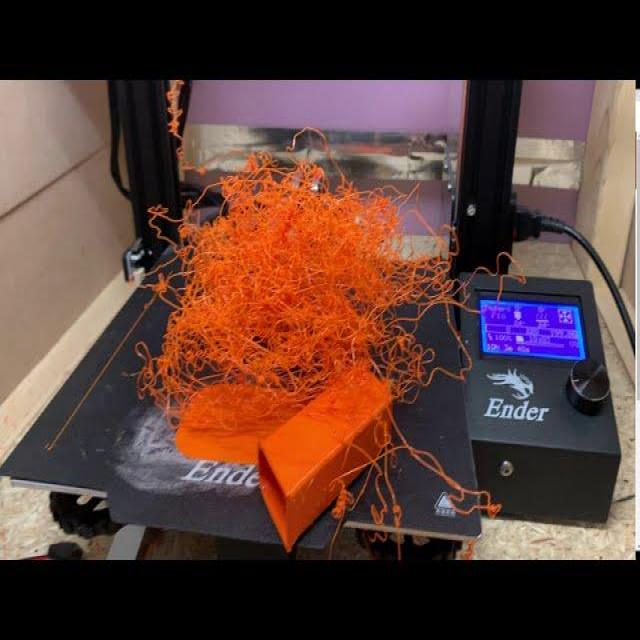Spaghetti: (149, 132, 465, 532)
